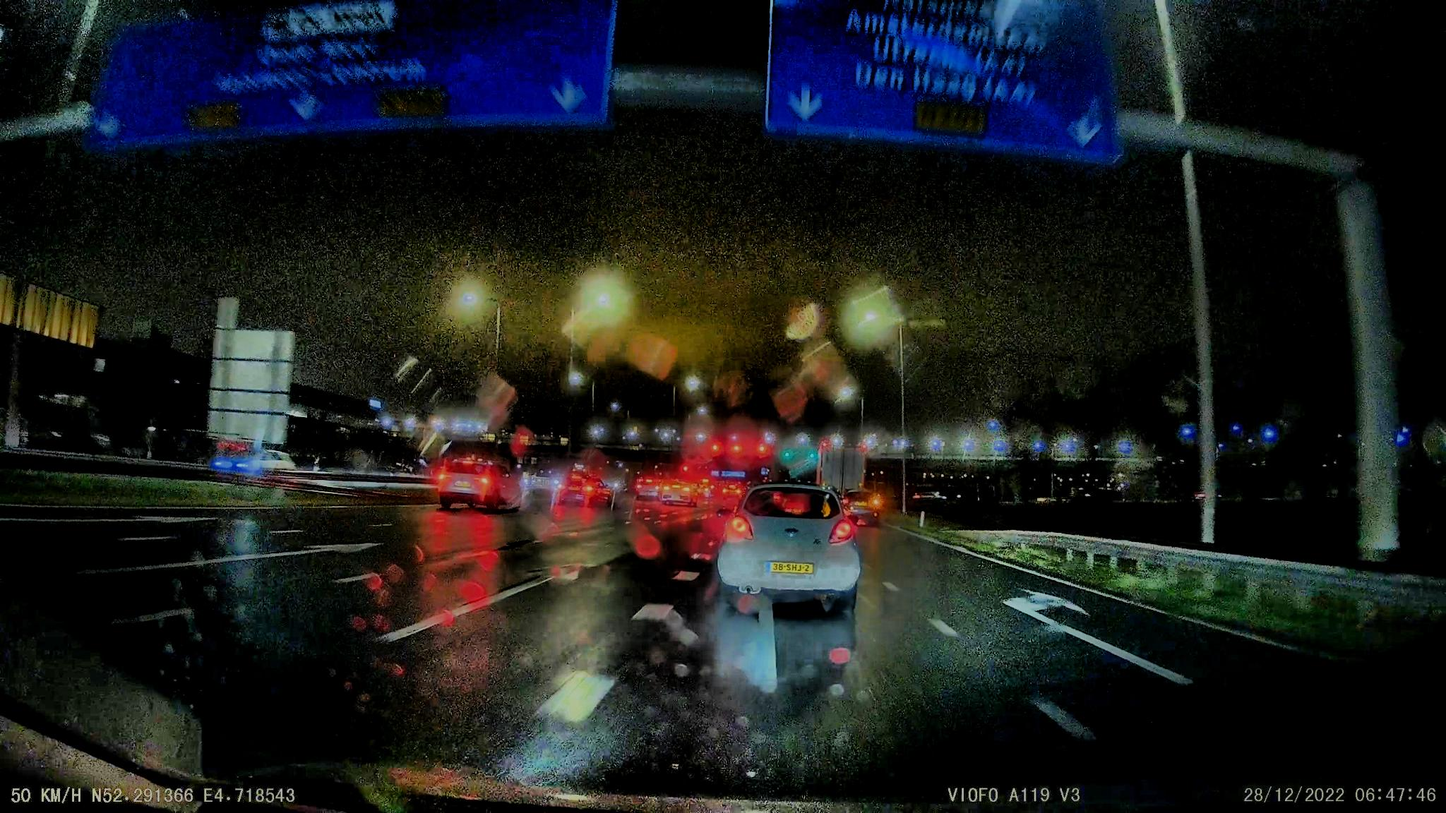Roads: (24, 508, 1446, 813)
